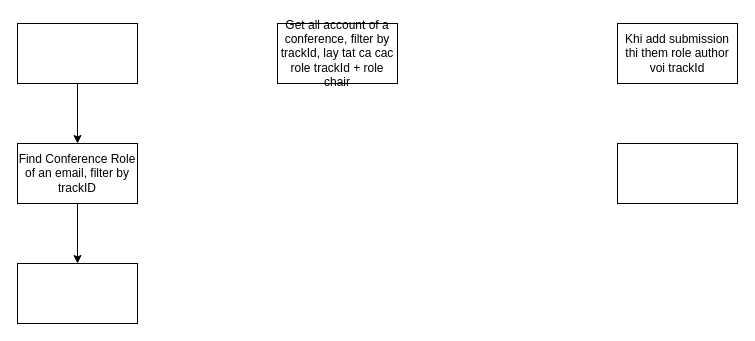
This 755x341 diagram has some shape labels left out. Here are the shapes that lost their labels. From the top down, the centre of each, then its label:
At point (77, 53): "Find just an account by email".
At point (77, 293): "Update conference role of an email (update list)".
